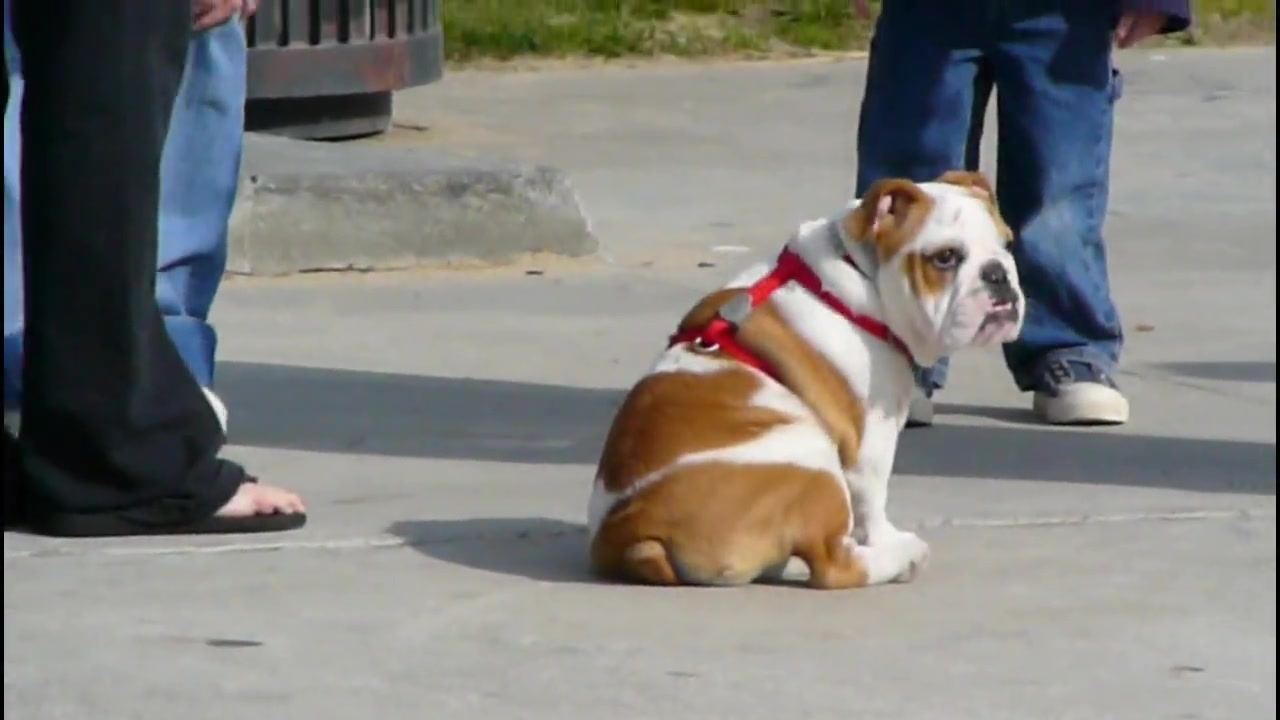dog: (583, 167, 1031, 589)
